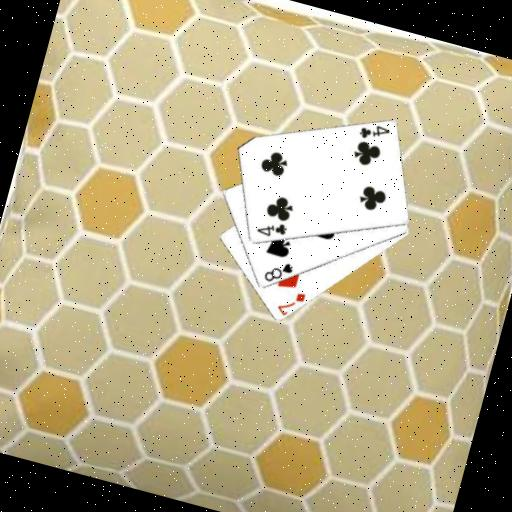4C: (354, 117, 392, 146), (252, 214, 290, 242)
7D: (272, 284, 308, 321)
8S: (260, 254, 296, 288)
